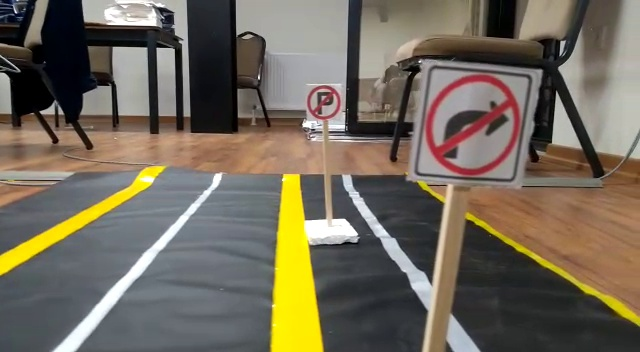park_yapilmaz: (306, 85, 343, 122)
saga_donulmez: (426, 57, 521, 178)
